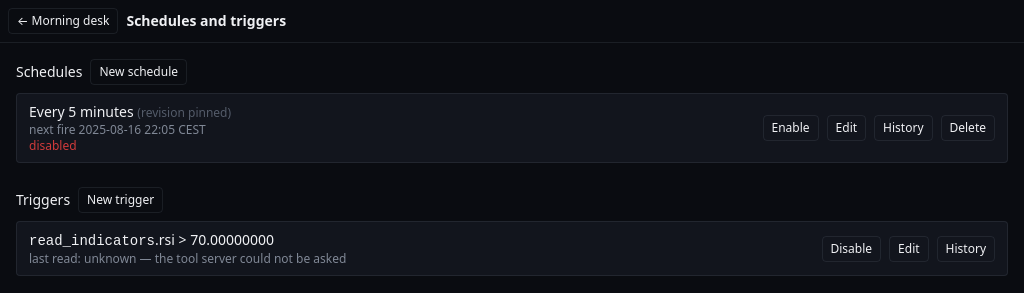
creating and editing a schedule › shows the module's own words when enabling is refused
This screenshot has width=1024, height=293.
Click the button "Enable": (791, 128) [762,115,819,141]
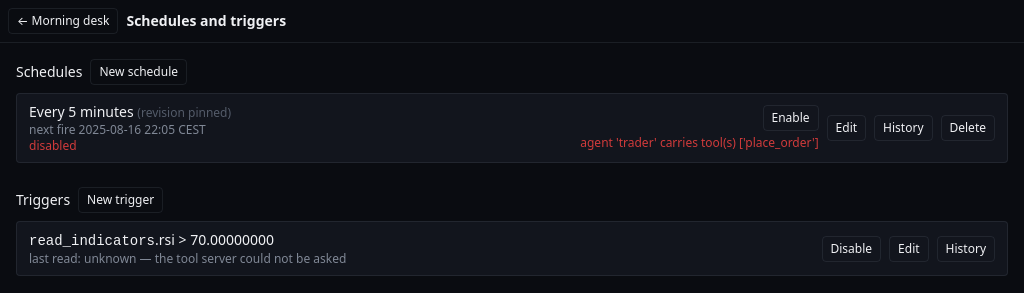
Expected: the text "agent 'trader' carries tool(s) ['place_order']" is shown, [580,135,819,151]
